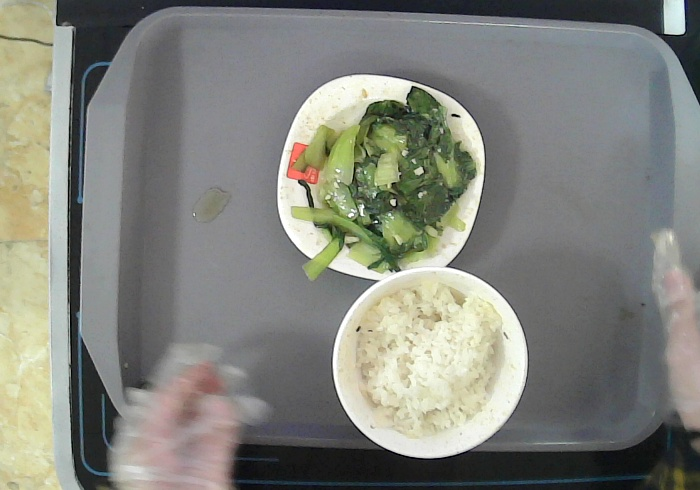SHKJ-Bai_Se_Si_Fang_Cai_Die: (277, 74, 485, 280)
SHKJ-Fan_Wan: (331, 268, 528, 458)
